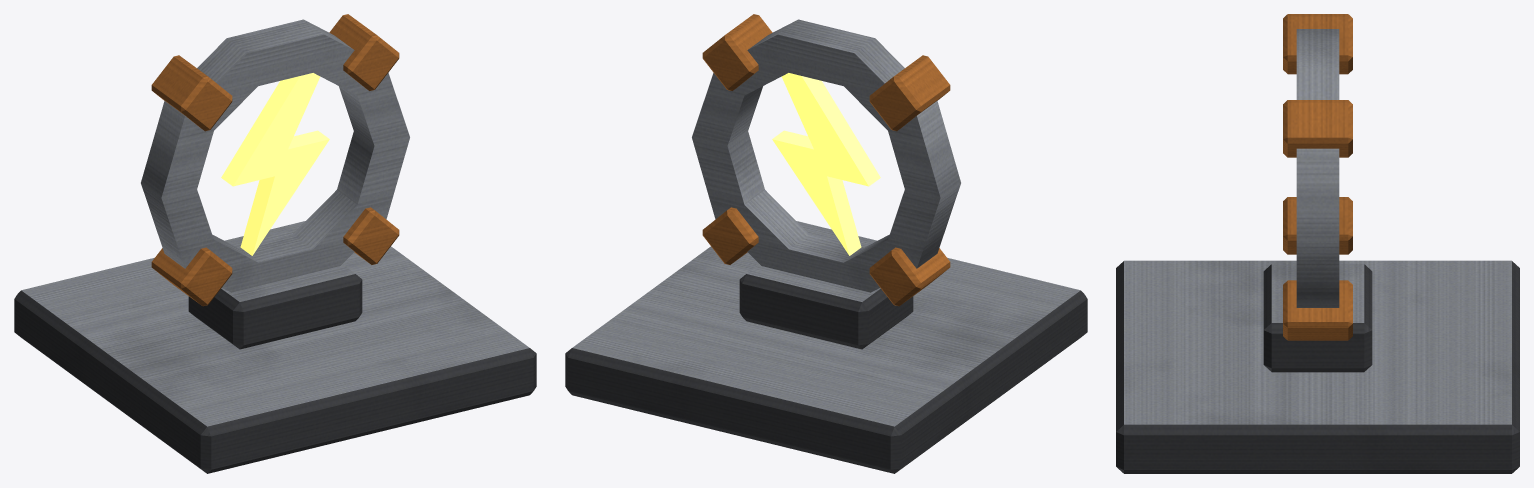
File: R4X_RechargePulse_LOD1.glb
3 views of the same model, side by side, from view 1: azimuth 30°, elevation 25°; view 2: azimuth 150°, elevation 25°; view 3: azimuth 270°, elevation 25° (orthographic). The views are drawn at different scales.
Visible parts, largest first — view 1: R4X_RechargePulse_LOD1; view 2: R4X_RechargePulse_LOD1; view 3: R4X_RechargePulse_LOD1.
Part boxes in pixels (bbox=[...]): R4X_RechargePulse_LOD1: bbox=[14, 14, 536, 473]; R4X_RechargePulse_LOD1: bbox=[565, 14, 1087, 473]; R4X_RechargePulse_LOD1: bbox=[1116, 14, 1519, 473].
Size of the model in its own units: 0.52 by 0.4881 by 0.52.
4 materials, 3 textured.
